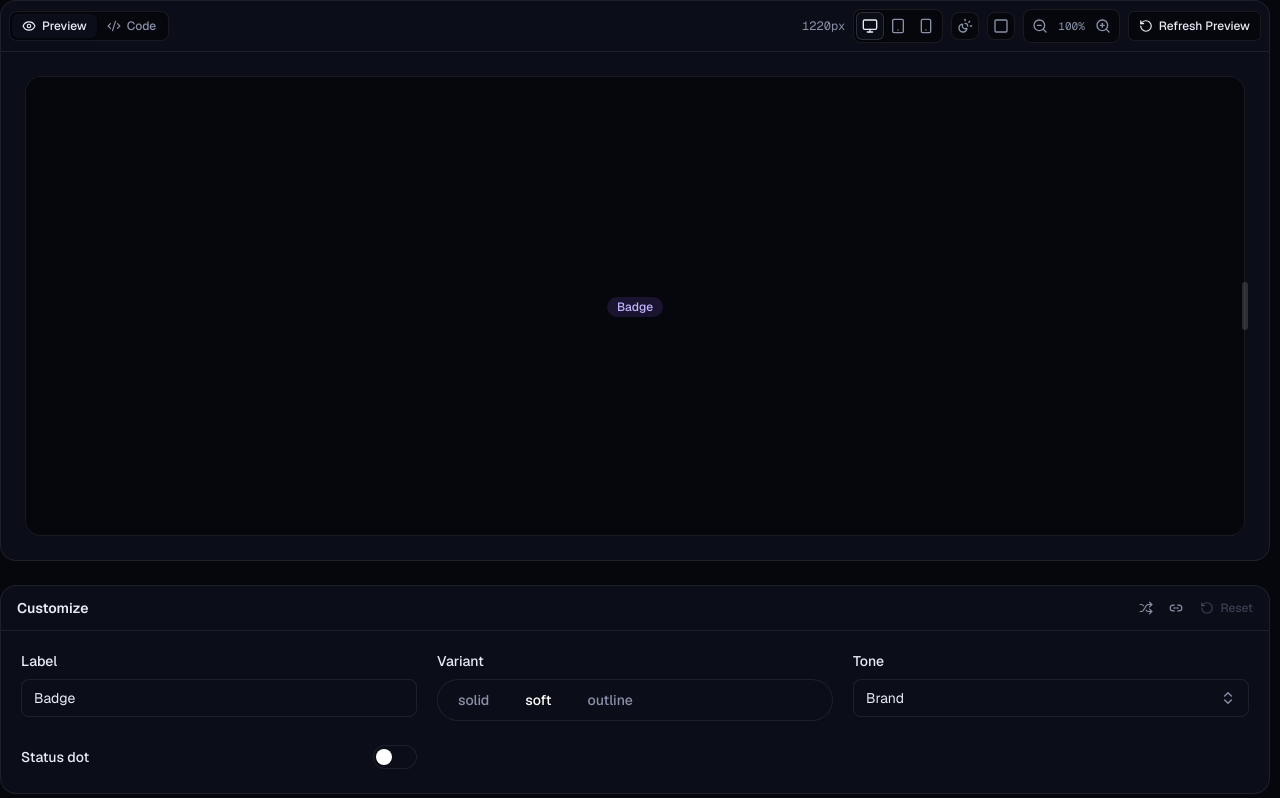
Test case: ComponentPlayground — customize toolbox › renders a live Usage snippet on the Code tab that mirrors the current values
Click the tab "Code" at [131, 26], box [97,14,166,38]
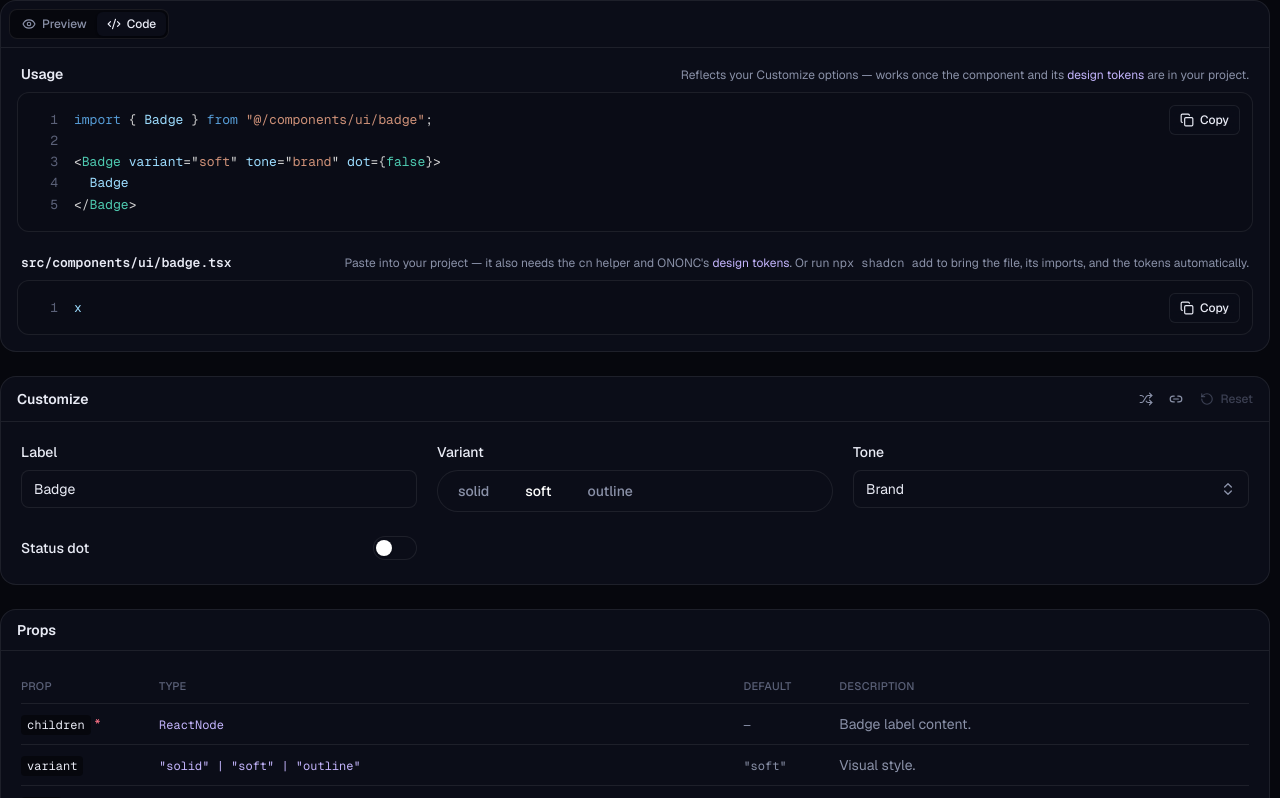
Result: the heading "Usage" is shown at [21,64,63,84]
The Customize panel stays visible below the stage, so edits update live.
Replace the text in the field named "Label" with "Shipped" at [219, 489], box [21,470,417,508]
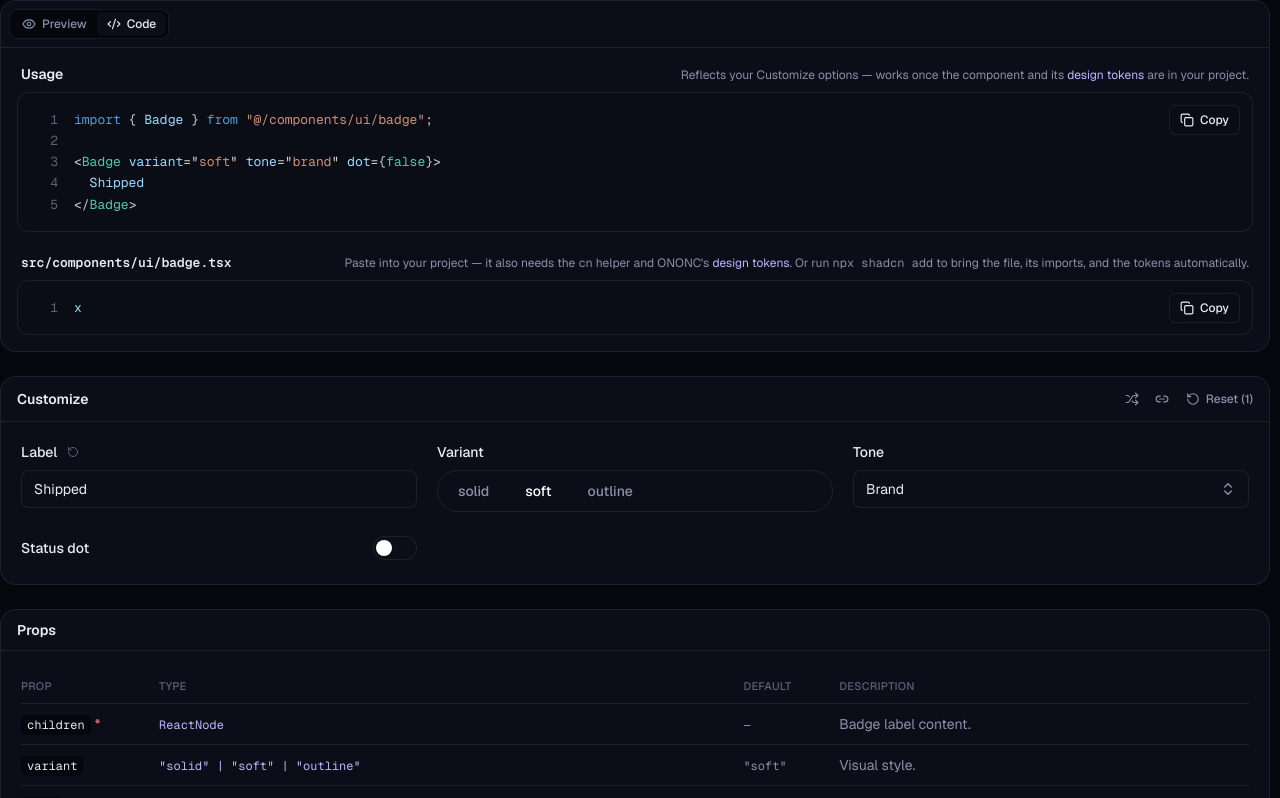
Result: the text "Shipped" is shown at [74,174,144,191]
